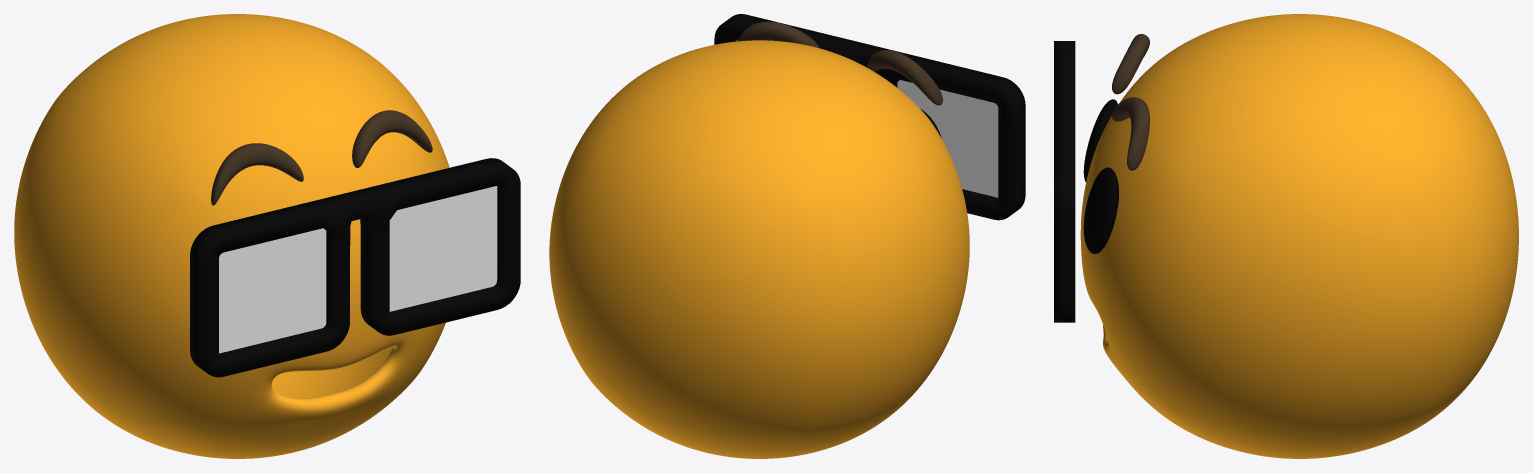
The model's file is Glasses.glb.
The picture shows the model from 3 angles, left to right: view 1: azimuth 30°, elevation 25°; view 2: azimuth 150°, elevation 25°; view 3: azimuth 270°, elevation 25°; orthographic projection. The views are drawn at different scales.
Visible parts, largest first — view 1: Cube, Plane.002, Plane.001, Cube.002_Cube.004; view 2: Cube, Plane.002, Plane.001, Cube.002_Cube.004; view 3: Cube, Plane.002, Cube.001, Cube.002_Cube.004.
Part boxes in pixels (x1,y1,x2,y2): Cube: (14, 14, 449, 458); Plane.002: (190, 158, 520, 377); Plane.001: (219, 186, 497, 353); Cube.002_Cube.004: (211, 110, 432, 205); Cube: (549, 40, 969, 458); Plane.002: (714, 14, 1025, 220); Plane.001: (736, 40, 998, 197); Cube.002_Cube.004: (737, 21, 942, 105); Cube: (1080, 14, 1518, 458); Plane.002: (1054, 41, 1075, 322); Cube.001: (1083, 99, 1118, 253); Cube.002_Cube.004: (1112, 34, 1149, 170).
Bounding box in the file's own units: 1.66 × 1.66 × 1.76.
